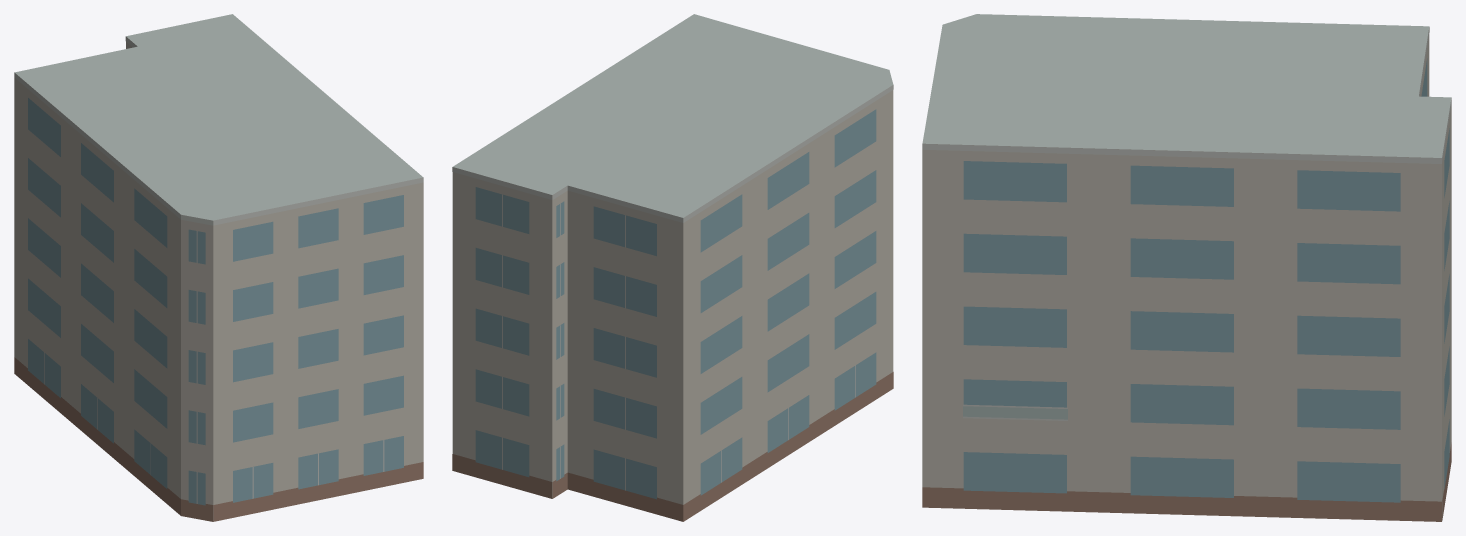
Rendered from survey-upis-32752493.glb.
3 views of the same model, side by side, from view 1: azimuth 30°, elevation 25°; view 2: azimuth 150°, elevation 25°; view 3: azimuth 270°, elevation 25° (orthographic). The views are drawn at different scales.
Parts seen in each view (by area): view 1: survey-upis-32752493.tmp; view 2: survey-upis-32752493.tmp; view 3: survey-upis-32752493.tmp.
Part boxes in pixels (x1,y1,x2,y2): survey-upis-32752493.tmp: (14, 14, 423, 521); survey-upis-32752493.tmp: (452, 14, 893, 521); survey-upis-32752493.tmp: (922, 14, 1451, 521).
Size of the model in its own units: 12.4 by 14.6 by 19.25.
